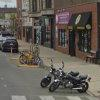Motorcycle: (33, 62, 88, 98)
